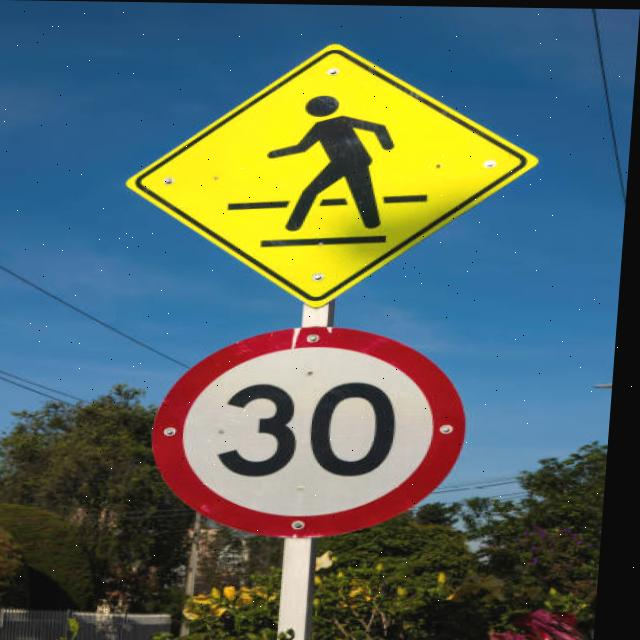Speed limit 30: (150, 322, 482, 541)
